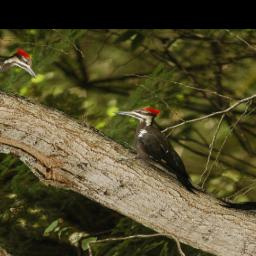Woodpecker: (75, 95, 249, 201)
